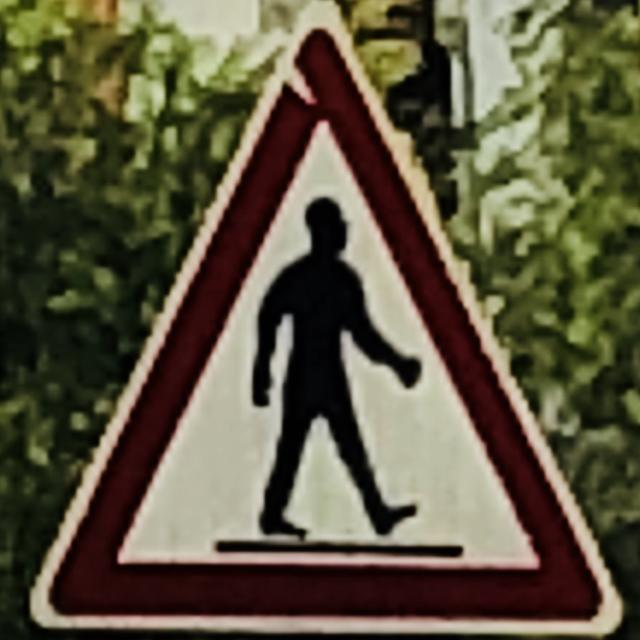pedestrian crossing: (45, 22, 608, 624)
